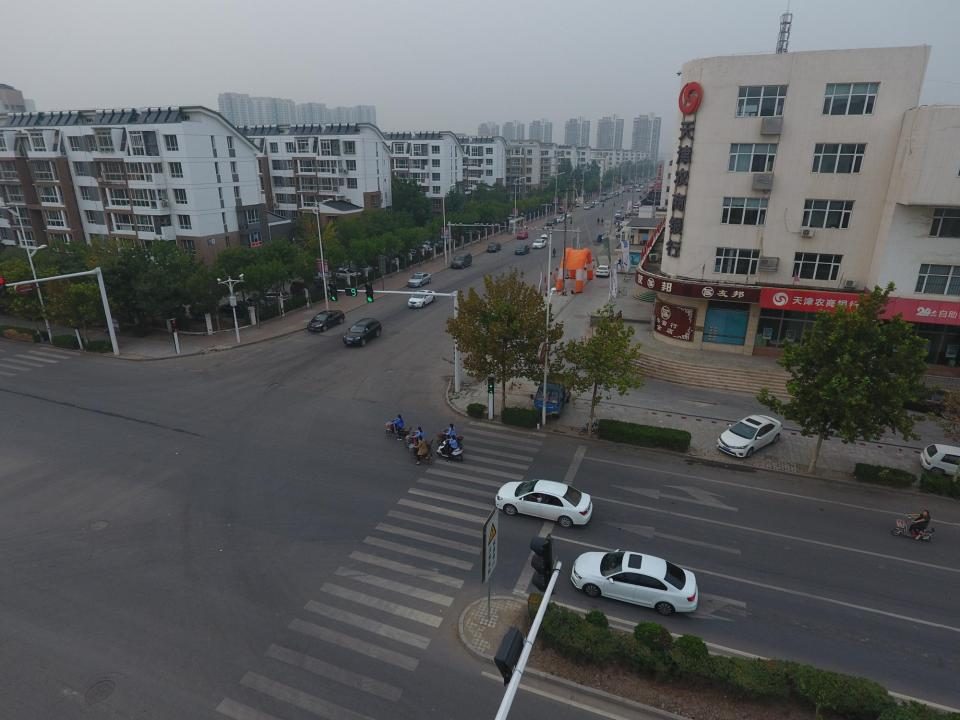car: (571, 548, 699, 616), (495, 480, 592, 527), (718, 414, 782, 458), (918, 444, 960, 478), (342, 317, 382, 349), (306, 309, 344, 333), (216, 300, 258, 318), (236, 296, 275, 314), (407, 290, 436, 308), (344, 260, 372, 276), (327, 269, 361, 282), (260, 290, 292, 303), (406, 272, 432, 288), (392, 247, 418, 262), (450, 252, 472, 269), (417, 240, 443, 254), (411, 243, 432, 255), (595, 264, 613, 277), (459, 230, 480, 238), (531, 239, 546, 250), (618, 229, 635, 238), (515, 244, 530, 254), (486, 242, 501, 252), (517, 229, 529, 240), (615, 220, 630, 227), (546, 218, 557, 226), (554, 216, 564, 222), (614, 217, 624, 223), (630, 209, 642, 214), (564, 213, 572, 219), (584, 204, 590, 210), (641, 193, 647, 199), (592, 200, 599, 205), (588, 203, 594, 208), (600, 197, 606, 202), (636, 187, 640, 192), (604, 196, 608, 200), (607, 196, 611, 200), (619, 190, 623, 194), (649, 182, 653, 186), (628, 185, 632, 189), (617, 191, 621, 194), (623, 188, 626, 192), (640, 185, 644, 188), (621, 189, 624, 192)
truck: (530, 371, 574, 419), (573, 198, 583, 206), (602, 190, 608, 195)
van: (290, 280, 318, 298), (630, 205, 641, 211), (615, 210, 622, 218), (557, 207, 566, 213), (632, 204, 642, 209), (609, 192, 617, 198), (614, 190, 618, 196)
